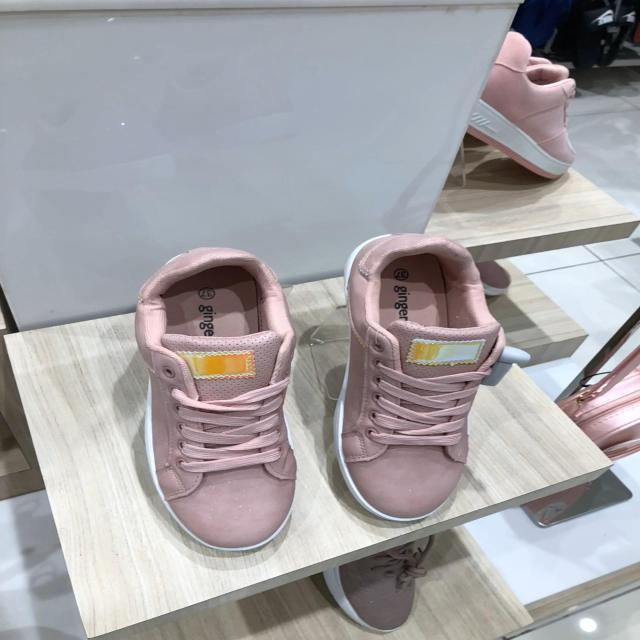shoe: (133, 248, 297, 553), (342, 235, 509, 523)
